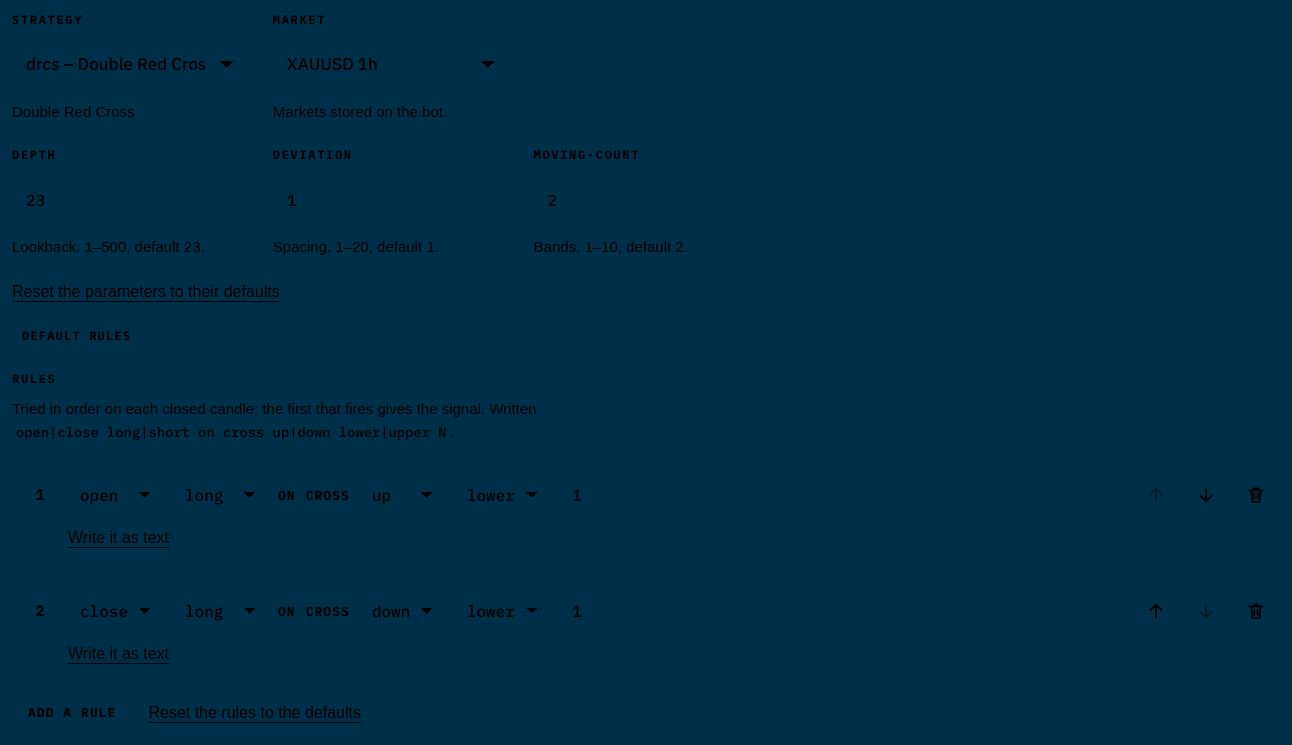
Test case: the strategy and its parameters › shows a parameter’s range error from the catalog
Step 1. Replace the text in the number field labelled "depth" with "900" → [130, 200], box [12,174,249,226]
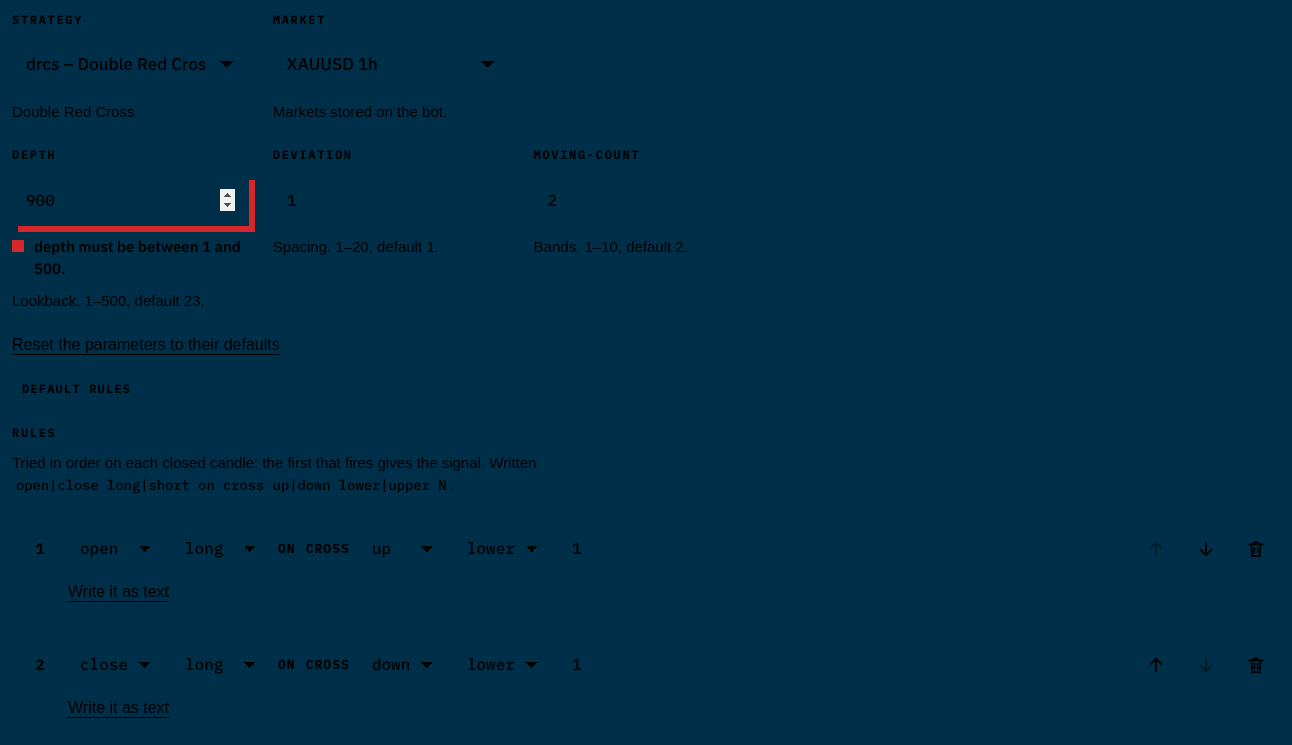
Check: the text "depth must be between 1 and 500." is shown, box [12,236,249,280]
